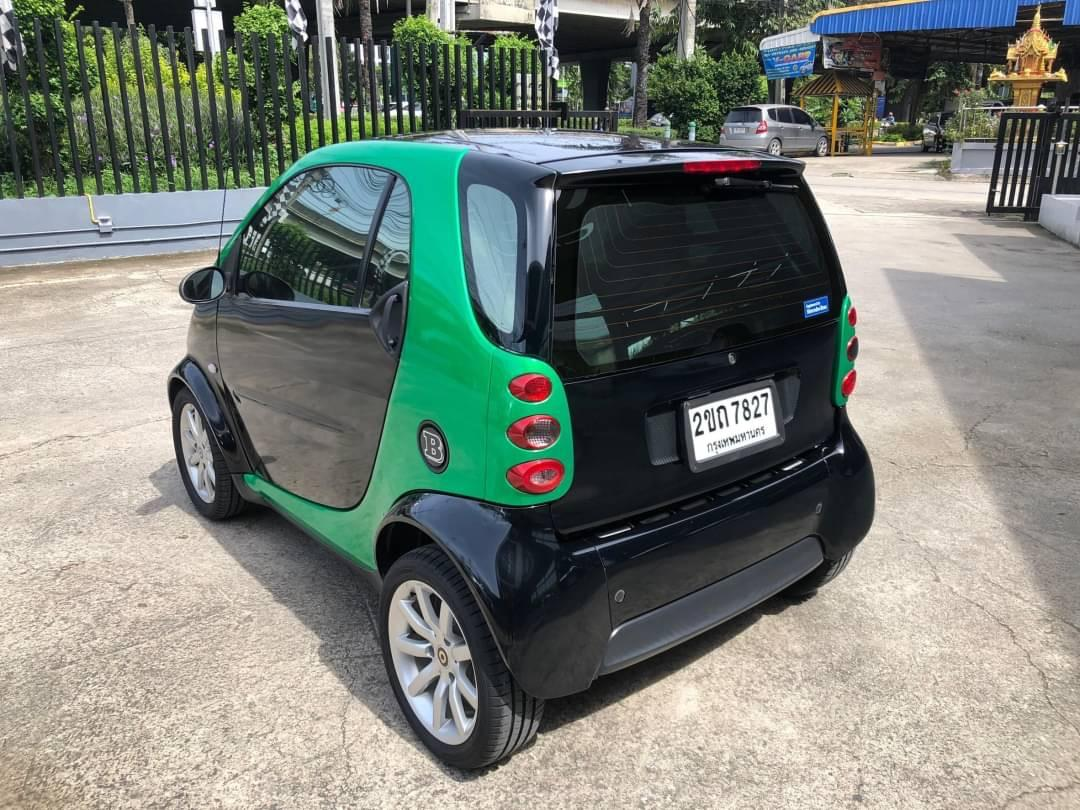license-plate: (675, 376, 788, 476)
